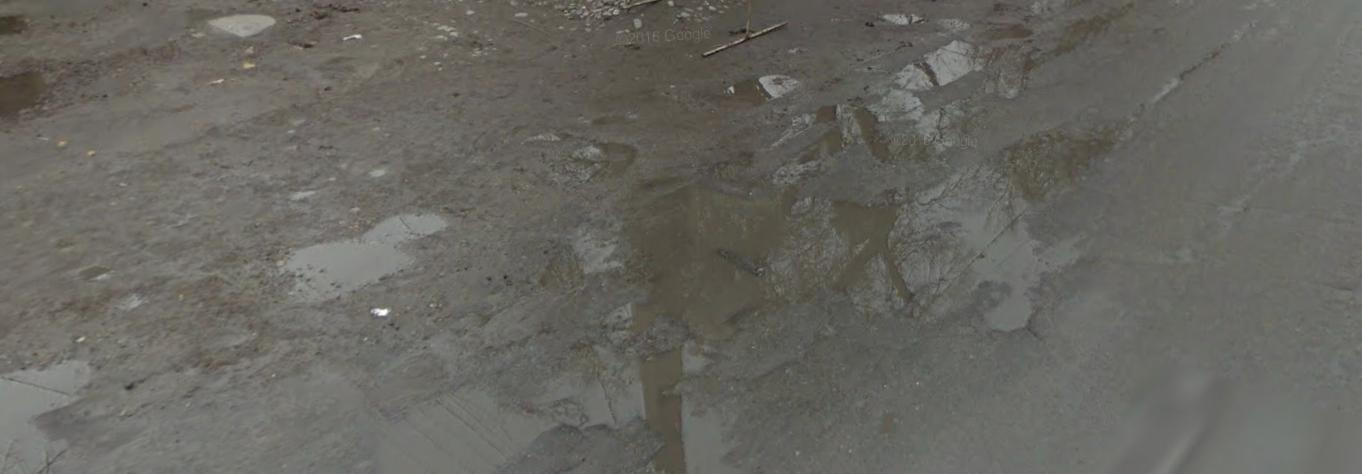alligator_crack: (831, 130, 1133, 333), (601, 154, 917, 340), (339, 374, 557, 474), (264, 207, 457, 310), (887, 31, 1016, 109), (686, 74, 814, 116)
